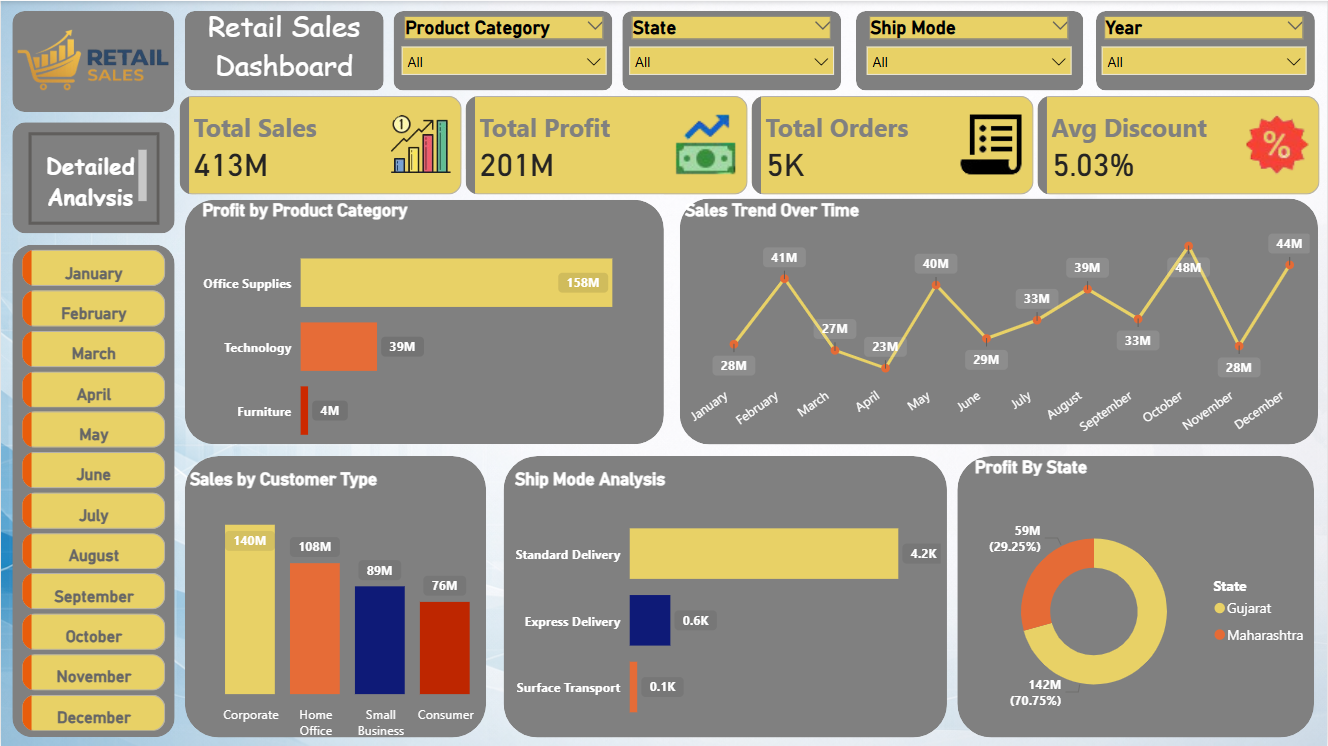

The page's visual inventory and layout, read from the dashboard file:
{"tool":"powerbi","page":{"name":"Dashboard","canvas":[1280,720],"ordinal":0},"visuals":[{"type":"shape","box":[10.9,117,156.8,107.4],"z":0},{"type":"shape","box":[484.4,439.1,428.1,271.7],"z":1000},{"type":"shape","box":[177,439.1,290.9,271.7],"z":2000},{"type":"shape","box":[177,192.1,462.4,236],"z":3000},{"type":"shape","box":[923.5,439.1,344.4,271.7],"z":4000},{"type":"shape","box":[1056.6,9.6,211.3,76.8],"z":5000},{"type":"cardVisual","title":"Total Sales","fields":{"Data":["Retail_Sales_Data.TotaL Sales","Retail_Sales_Data.Total Profit","Retail_Sales_Data.Total Orders","Retail_Sales_Data.Avg Discount"]},"box":[167.4,86.4,1112.9,105.7],"z":6000},{"type":"shape","box":[11,9.6,156.4,97.4],"z":7000},{"type":"image","box":[11,9.6,156.4,94.7],"z":8000},{"type":"shape","box":[10.9,235.3,156.8,475.3],"z":9000},{"type":"advancedSlicerVisual","fields":{"Values":["Custom_Calender.Dates.Variation.Date Hierarchy.Month"]},"box":[15.7,235.3,148.4,485],"z":10000},{"type":"shape","box":[177,9.6,192.1,76.8],"z":11000},{"type":"textbox","box":[189.4,0,167.4,86.4],"z":12000},{"type":"slicer","fields":{"Values":["Custom_Calender.Dates.Variation.Date Hierarchy.Year"]},"box":[1052.5,9.6,218.2,76.8],"z":13000},{"type":"shape","box":[378.7,9.6,211.3,76.8],"z":14000},{"type":"shape","box":[599.7,9.6,211.3,76.8],"z":15000},{"type":"shape","box":[824.7,9.6,219.6,76.8],"z":16000},{"type":"slicer","fields":{"Values":["Retail_Sales_Data.Ship Mode"]},"box":[825,9.6,218.2,78],"z":17000},{"type":"slicer","fields":{"Values":["Retail_Sales_Data.State"]},"box":[595.5,9.6,218.2,76.8],"z":18000},{"type":"slicer","fields":{"Values":["Retail_Sales_Data.Product Category"]},"box":[376,9.6,218.2,76.8],"z":19000},{"type":"shape","box":[654.5,190.7,616.1,237.4],"z":20000},{"type":"lineChart","title":"Sales Trend Over Time","fields":{"Category":["Custom_Calender.Dates.Variation.Date Hierarchy.Month"],"Y":["Sum(Retail_Sales_Data.Total)"]},"box":[654.5,192.1,613.4,247],"z":21000},{"type":"barChart","title":"Profit by Product Category","fields":{"Category":["Retail_Sales_Data.Product Category"],"Y":["Sum(Retail_Sales_Data.Total Profit Per Order)"]},"box":[189.4,192.1,450.1,259.3],"z":22000},{"type":"donutChart","title":"Profit By State","fields":{"Category":["Retail_Sales_Data.State"],"Y":["Sum(Retail_Sales_Data.Total Profit Per Order)"]},"box":[934.5,439.1,336.2,281.3],"z":23000},{"type":"barChart","title":"Ship Mode Analysis","fields":{"Category":["Retail_Sales_Data.Ship Mode"],"Y":["CountNonNull(Retail_Sales_Data.Customer Name)"]},"box":[491.3,451.5,421.3,269],"z":24000},{"type":"columnChart","title":"Sales by Customer Type","fields":{"Category":["Retail_Sales_Data.Customer Type"],"Y":["Sum(Retail_Sales_Data.Total)"]},"box":[177,451.5,307.4,269],"z":25000},{"type":"actionButton","box":[26.5,126.7,126.7,89.3],"z":26000},{"type":"textbox","box":[35,138.7,111,63.9],"z":27000}]}

Visuals, with their boxes in screenshot pixels (x1, y1, x2, y2), scaled from the page's 1280x720 canvas onto the 1328x746 screenshot:
shape: (11,121,174,233)
shape: (503,455,947,736)
shape: (184,455,485,736)
shape: (184,199,663,444)
shape: (958,455,1315,736)
shape: (1096,10,1315,90)
"Total Sales" cardVisual: (174,90,1327,199)
shape: (11,10,174,111)
image: (11,10,174,108)
shape: (11,244,174,736)
advancedSlicerVisual - Custom_Calender.Dates.Variation.Date Hierarchy.Month: (16,244,170,745)
shape: (184,10,383,90)
textbox: (197,0,370,90)
slicer - Custom_Calender.Dates.Variation.Date Hierarchy.Year: (1092,10,1318,90)
shape: (393,10,612,90)
shape: (622,10,841,90)
shape: (856,10,1083,90)
slicer - Retail_Sales_Data.Ship Mode: (856,10,1082,91)
slicer - Retail_Sales_Data.State: (618,10,844,90)
slicer - Retail_Sales_Data.Product Category: (390,10,616,90)
shape: (679,198,1318,444)
"Sales Trend Over Time" lineChart: (679,199,1315,455)
"Profit by Product Category" barChart: (197,199,663,468)
"Profit By State" donutChart: (970,455,1318,745)
"Ship Mode Analysis" barChart: (510,468,947,745)
"Sales by Customer Type" columnChart: (184,468,503,745)
actionButton: (27,131,159,224)
textbox: (36,144,151,210)
